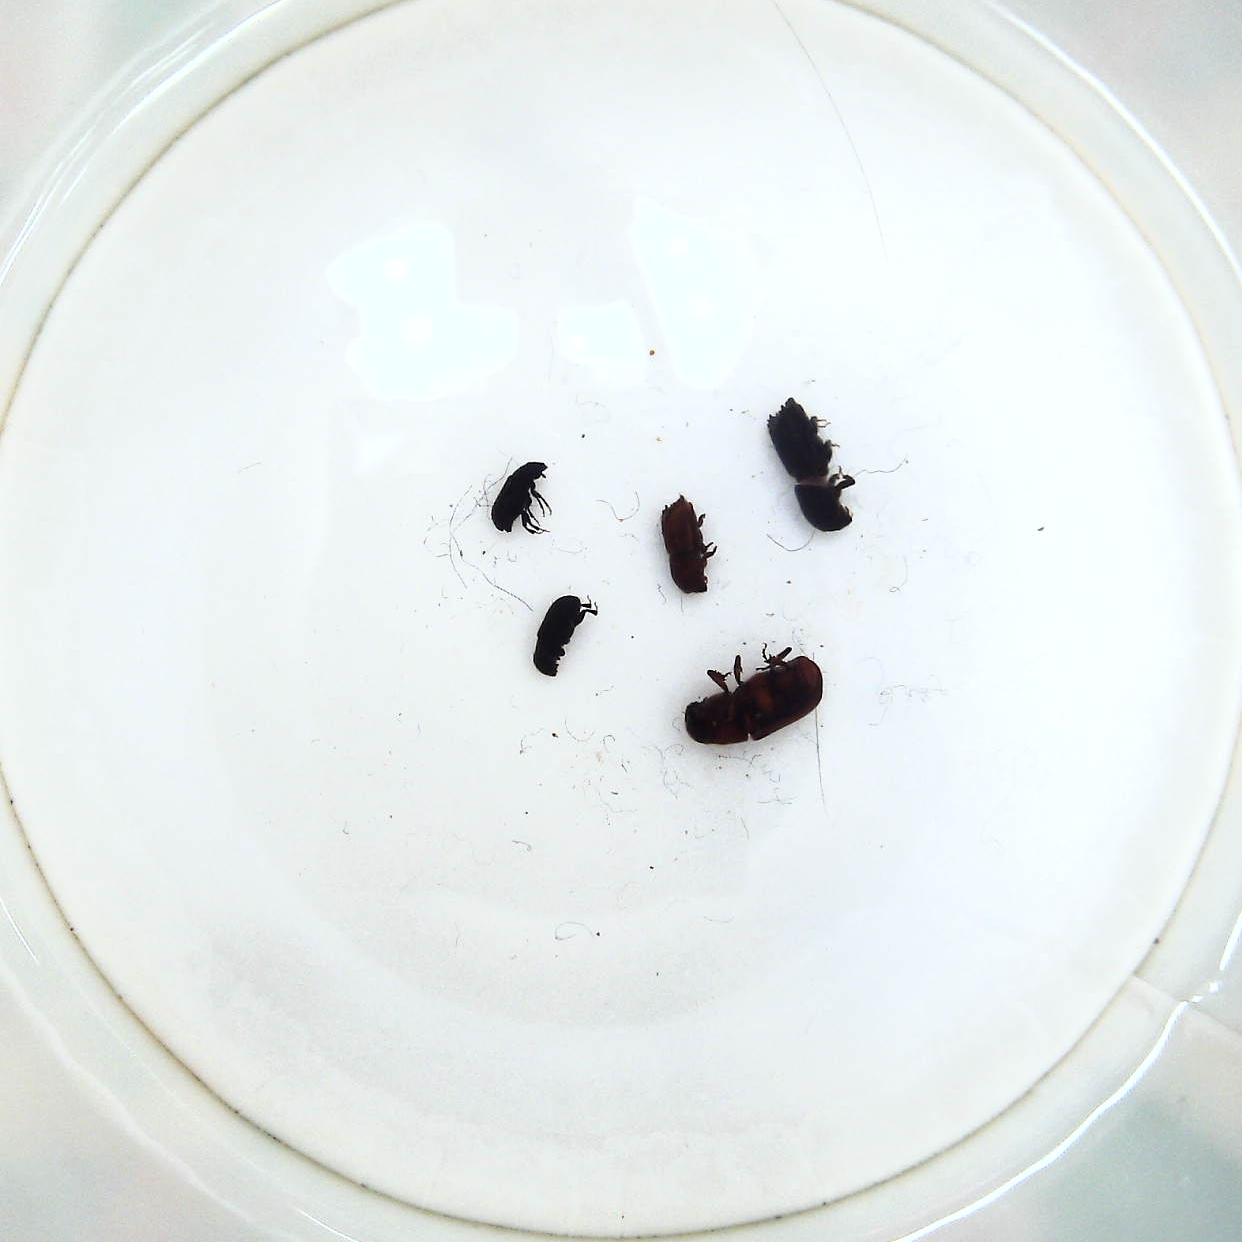Boerner: (764, 394, 856, 535)
Leconte: (681, 641, 830, 750)
armandi: (524, 588, 593, 682)
coleoptera: (488, 457, 552, 544)
linnaeus: (657, 492, 723, 603)
